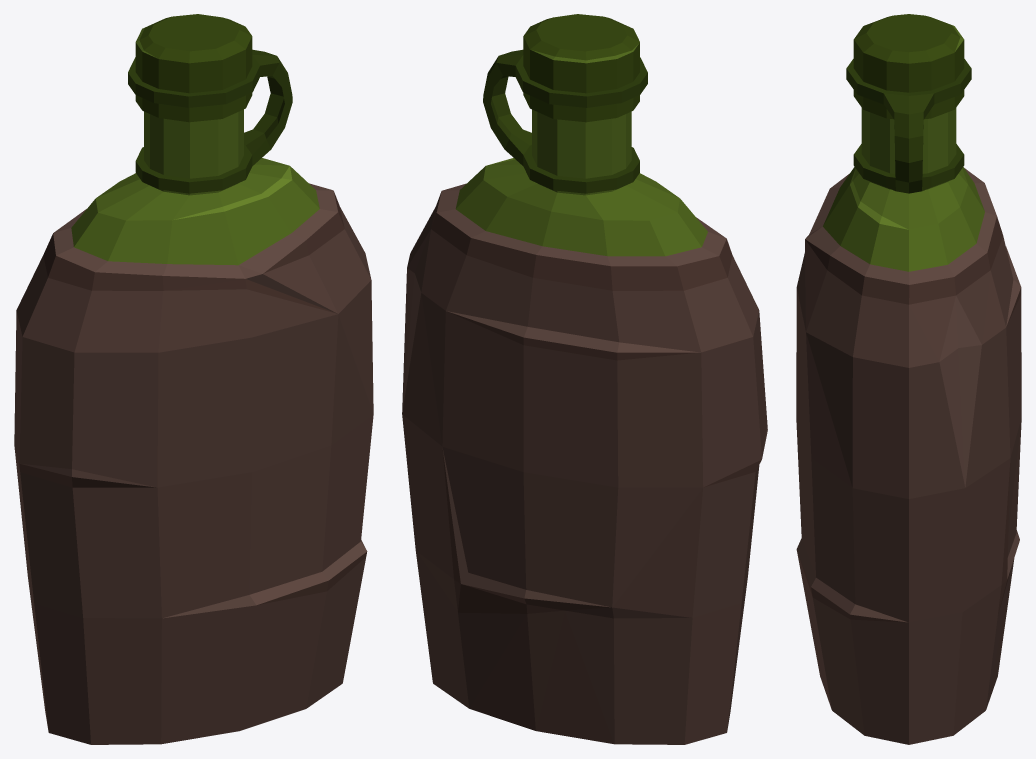
File: mesh_canteen.fbx
The picture shows the model from 3 angles, left to right: view 1: azimuth 30°, elevation 25°; view 2: azimuth 150°, elevation 25°; view 3: azimuth 270°, elevation 25°; orthographic projection. The views are drawn at different scales.
Parts seen in each view (by area): view 1: mesh_canteen; view 2: mesh_canteen; view 3: mesh_canteen.
Boxes of the visible parts, x1,y1,x2,y2 form: mesh_canteen: (14, 14, 373, 744); mesh_canteen: (402, 14, 767, 744); mesh_canteen: (796, 14, 1021, 744).
Size of the model in its own units: 0.3205 by 0.5796 by 0.1841.
